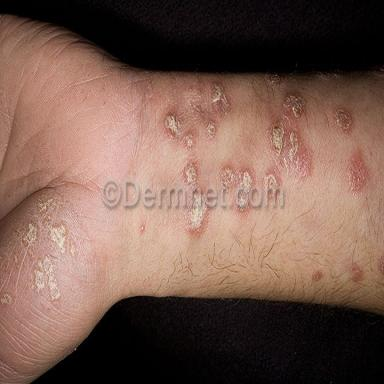Psoriasis: (270, 92, 311, 179), (186, 83, 232, 139), (164, 114, 195, 151), (220, 167, 254, 193), (347, 152, 368, 192), (187, 203, 208, 232), (334, 108, 352, 133), (182, 160, 198, 187)
